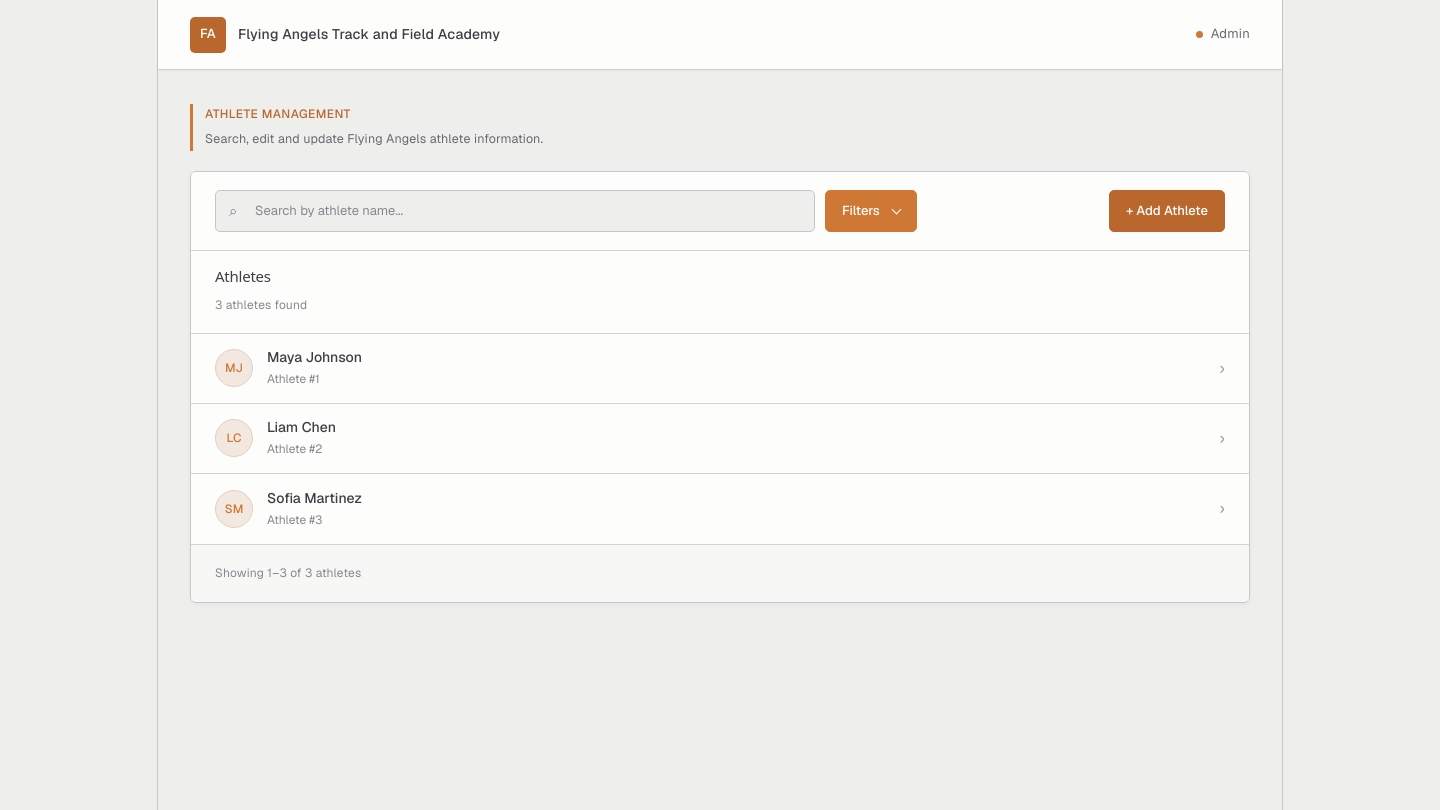
Test case: UC-01 Athlete Directory - filters › filters by event, matching event names regardless of case
Expected: the button "Maya Johnson" is shown, top-left (191, 334), bottom-right (1249, 404)
What coordinates should you click on to do the following:
click the button "Filters"
I would click on:
 (871, 210)
Its box is top-left (825, 190), bottom-right (917, 232).
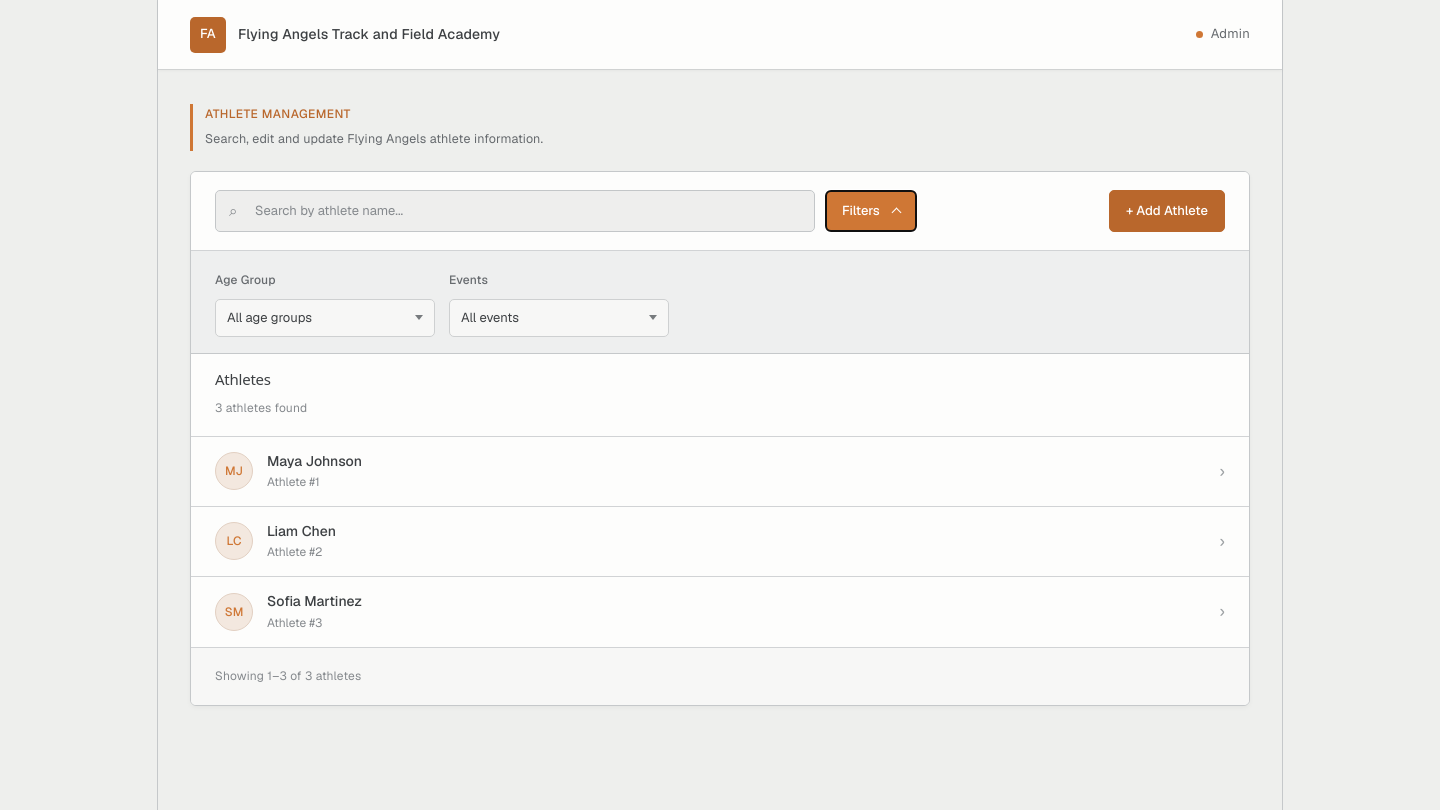
What coordinates should you click on to do the following:
click the button "All events"
I would click on:
 (559, 318)
Its box is top-left (449, 299), bottom-right (669, 337).
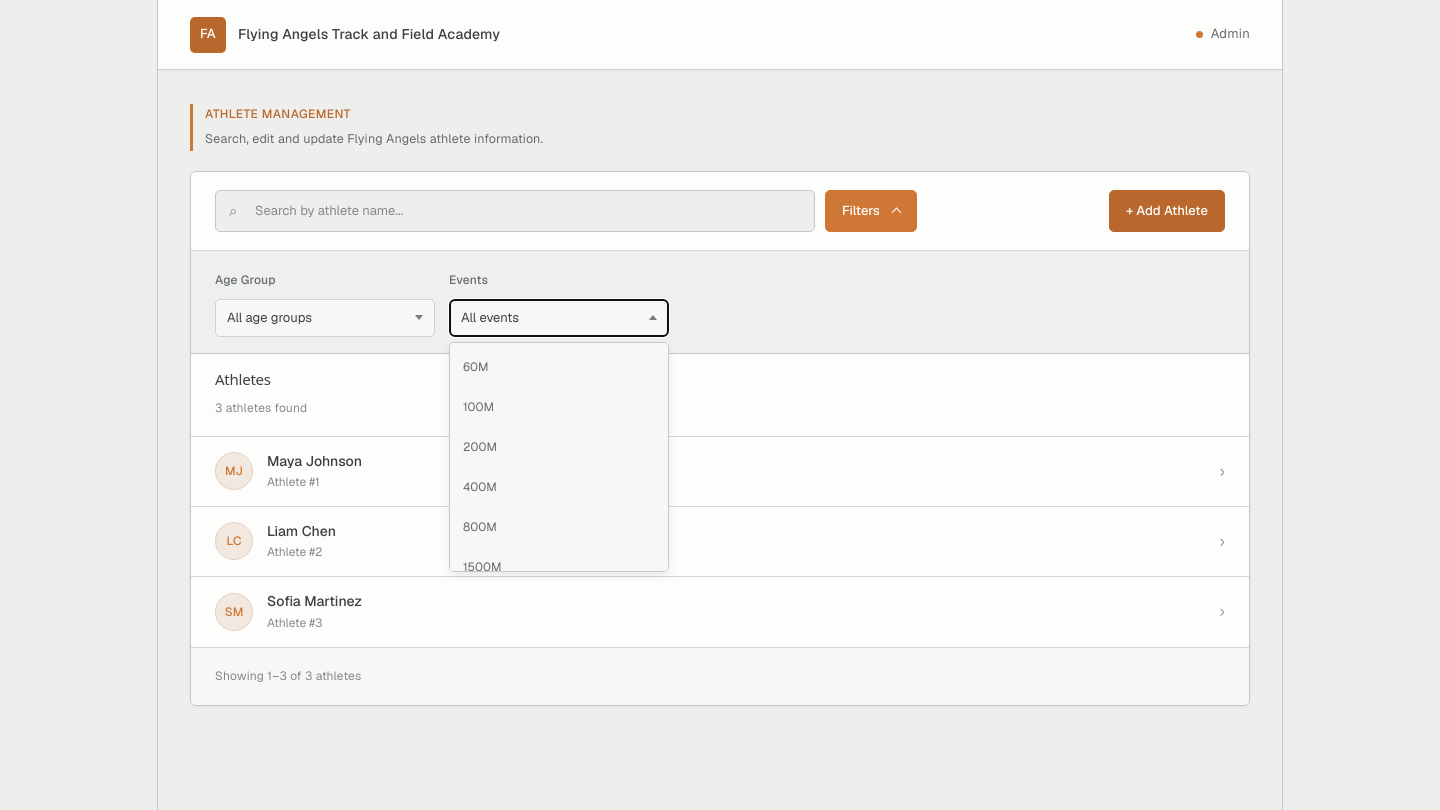
What coordinates should you click on to do the following:
click the button "200M"
I would click on:
 (559, 447)
Its box is top-left (454, 427), bottom-right (664, 467).
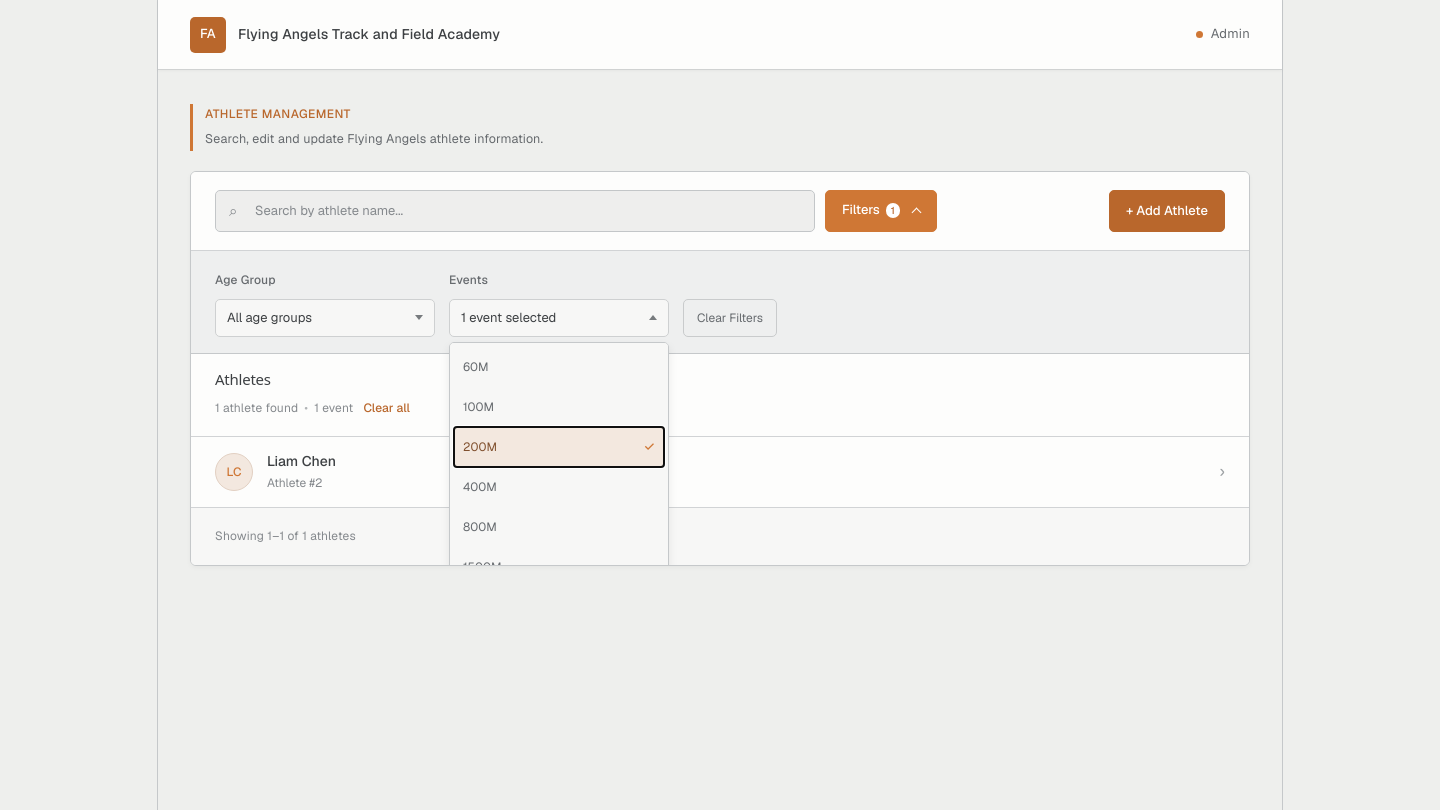
Expected: the number of buttons "LC Liam Chen Athlete #2 ›" is 1, top-left (191, 437), bottom-right (1249, 507)
